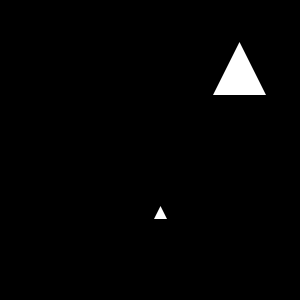triangle: (213, 42, 266, 95), (154, 206, 167, 219)
